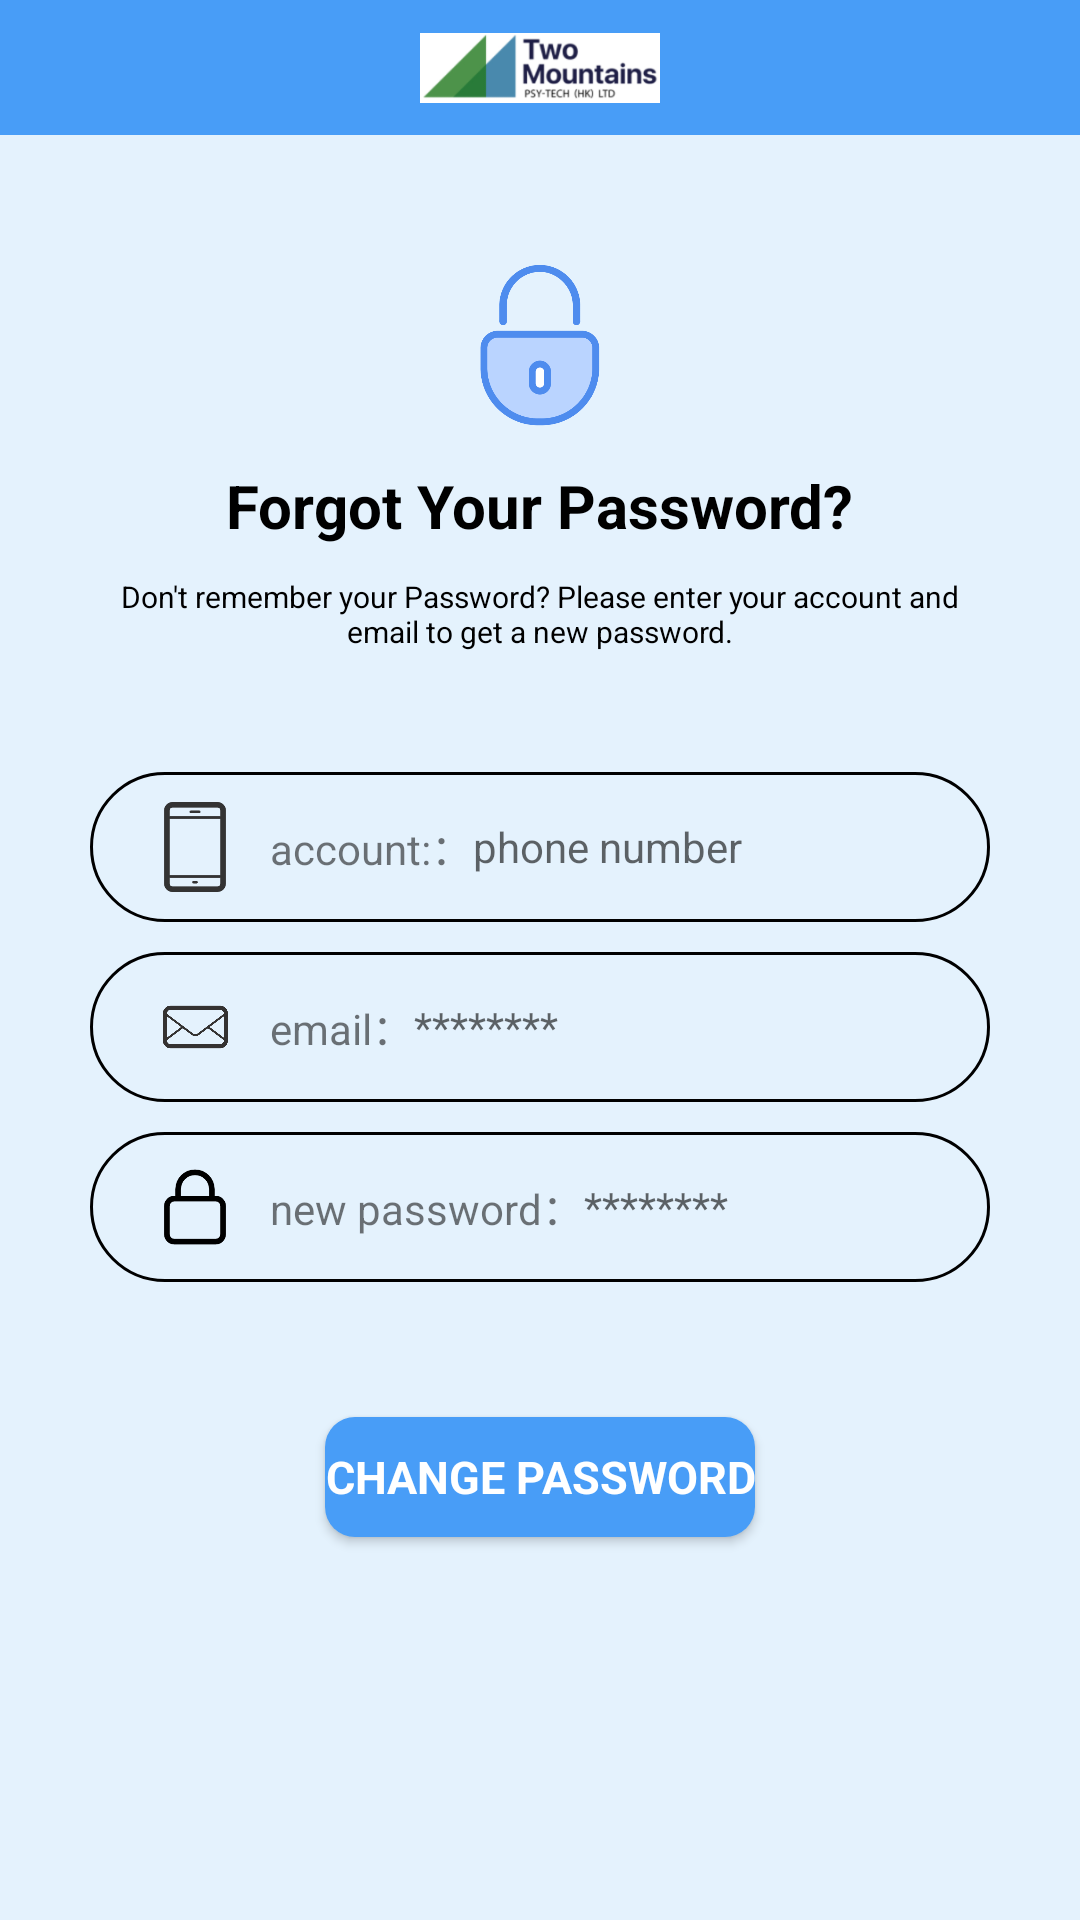

Named icons in this screenshot (1080 × 1920) and their bounding boxes, {"left": x1, "top": y1, "right": x2, "bottom": y2}:
message: {"left": 163, "top": 1005, "right": 228, "bottom": 1049}
